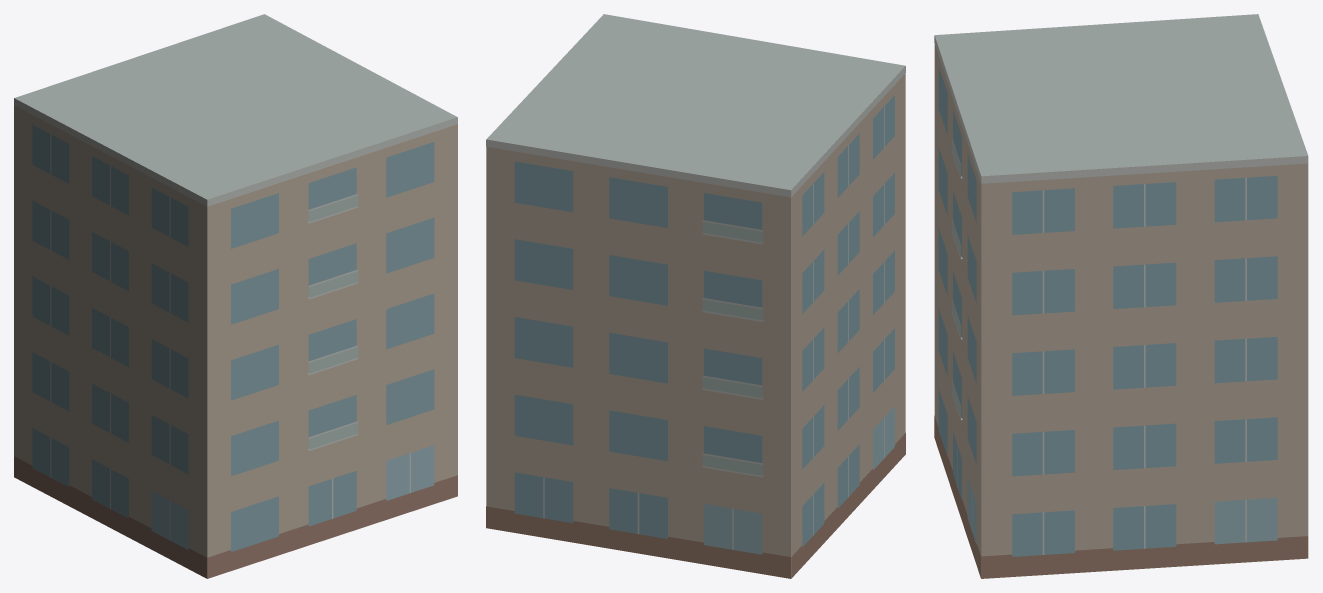
Rendered from survey-upis-32576534.glb.
3 views of the same model, side by side, from view 1: azimuth 30°, elevation 25°; view 2: azimuth 150°, elevation 25°; view 3: azimuth 270°, elevation 25° (orthographic). The views are drawn at different scales.
Visible parts, largest first — view 1: survey-upis-32576534.tmp; view 2: survey-upis-32576534.tmp; view 3: survey-upis-32576534.tmp.
Part boxes in pixels (bbox=[...]): survey-upis-32576534.tmp: bbox=[14, 14, 457, 578]; survey-upis-32576534.tmp: bbox=[486, 14, 905, 578]; survey-upis-32576534.tmp: bbox=[934, 14, 1308, 578].
Size of the model in its own units: 11.41 by 13.18 by 11.11.
